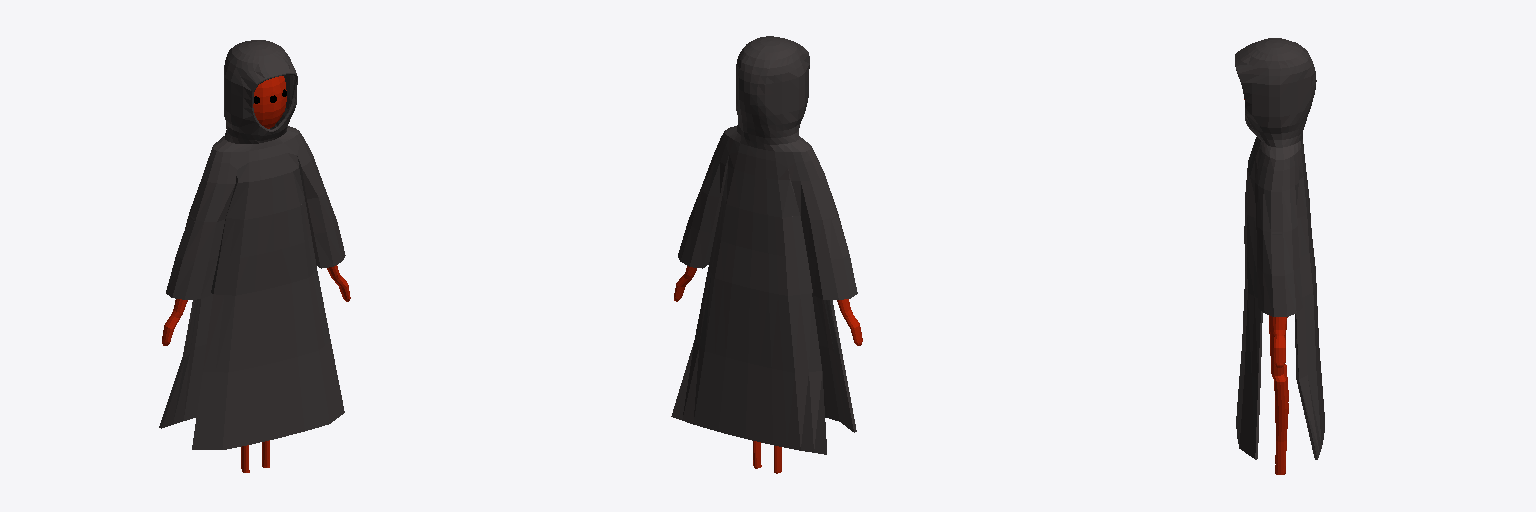
The model's file is Etalo_body_0227_1.obj.
3 views of the same model, side by side, from view 1: azimuth 30°, elevation 25°; view 2: azimuth 150°, elevation 25°; view 3: azimuth 270°, elevation 25° (orthographic).
Parts seen in each view (by area): view 1: Cone, Cube_Cube.001; view 2: Cone, Cube_Cube.001; view 3: Cone, Cube_Cube.001.
Part boxes in pixels (left/top/right/bottom): Cone: left=159, top=40, right=345, bottom=449; Cube_Cube.001: left=162, top=76, right=350, bottom=472; Cone: left=671, top=36, right=857, bottom=454; Cube_Cube.001: left=674, top=266, right=862, bottom=473; Cone: left=1235, top=38, right=1324, bottom=459; Cube_Cube.001: left=1244, top=99, right=1288, bottom=474.
Size of the model in its own units: 0.698 by 1.52 by 0.2918.